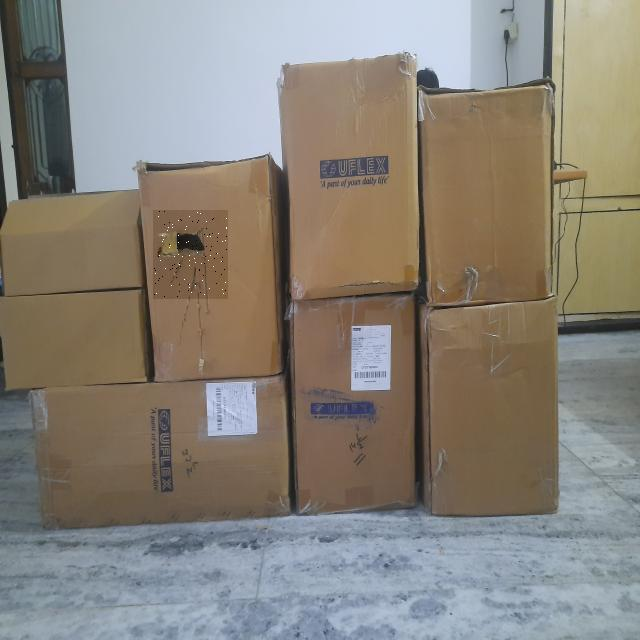leakage: (153, 210, 228, 298)
